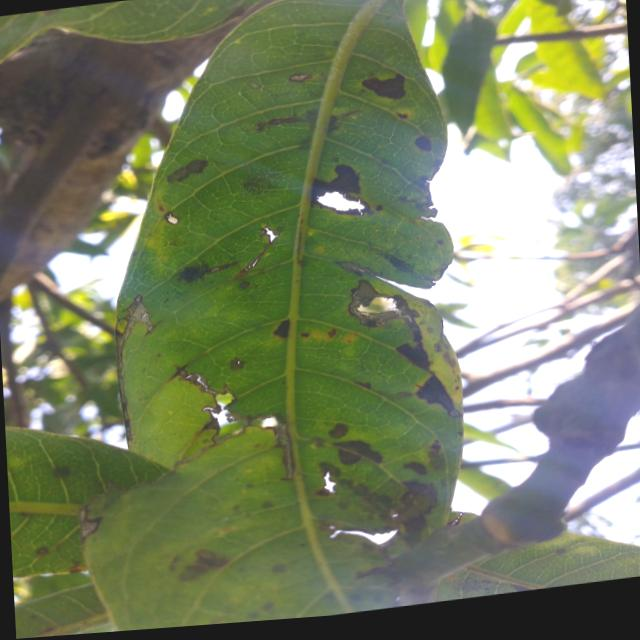Anthracnose: (291, 430, 391, 553), (189, 379, 258, 447), (346, 274, 398, 327), (309, 186, 361, 224), (357, 69, 408, 102), (309, 163, 363, 192)
